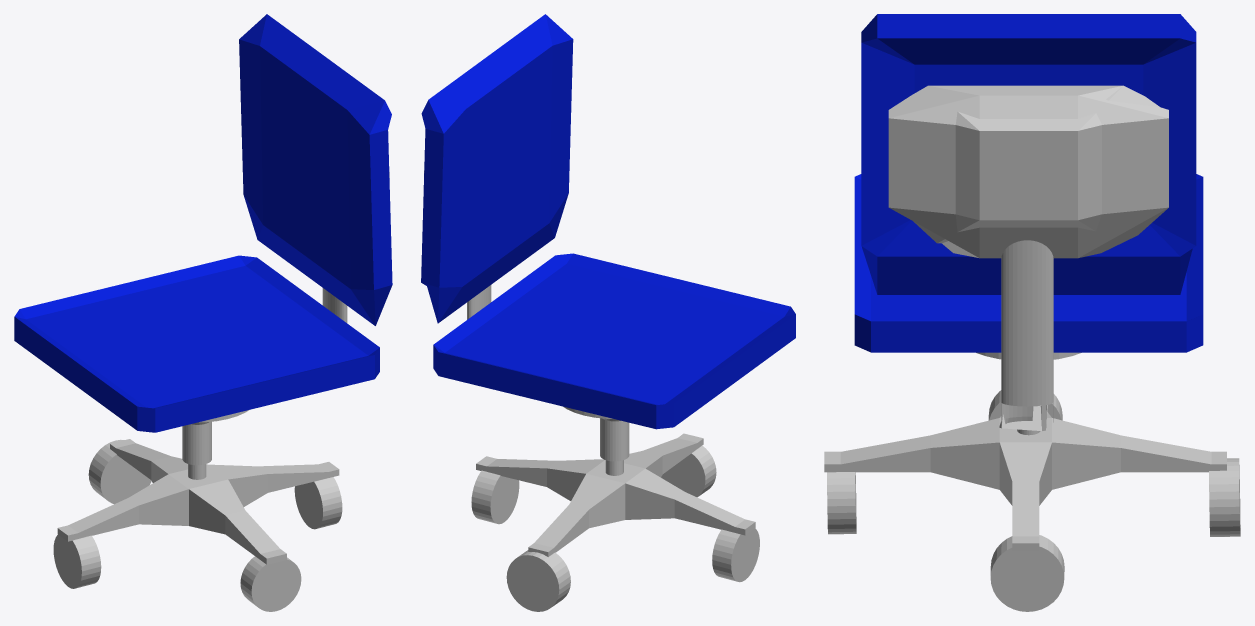
Rendered from CADEIRAGAMER.fbx.
3 renders of one model, left to right at view 1: azimuth 30°, elevation 25°; view 2: azimuth 150°, elevation 25°; view 3: azimuth 270°, elevation 25°, orthographic. The views are drawn at different scales.
Visible parts, largest first — view 1: Cube, Cylinder; view 2: Cube, Cylinder; view 3: Cylinder, Cube.
Boxes of the visible parts, x1,y1,x2,y2 form: Cube: [14, 14, 392, 432]; Cylinder: [53, 172, 389, 611]; Cube: [421, 14, 795, 429]; Cylinder: [424, 170, 759, 611]; Cylinder: [824, 85, 1240, 611]; Cube: [854, 14, 1203, 352].
Size of the model in its own units: 208 by 316 by 198.
